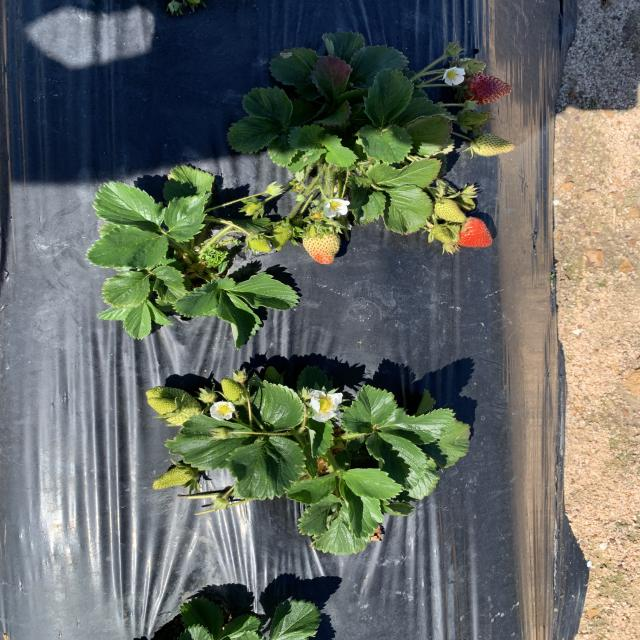unripe: (446, 216, 497, 250), (465, 73, 513, 103)
